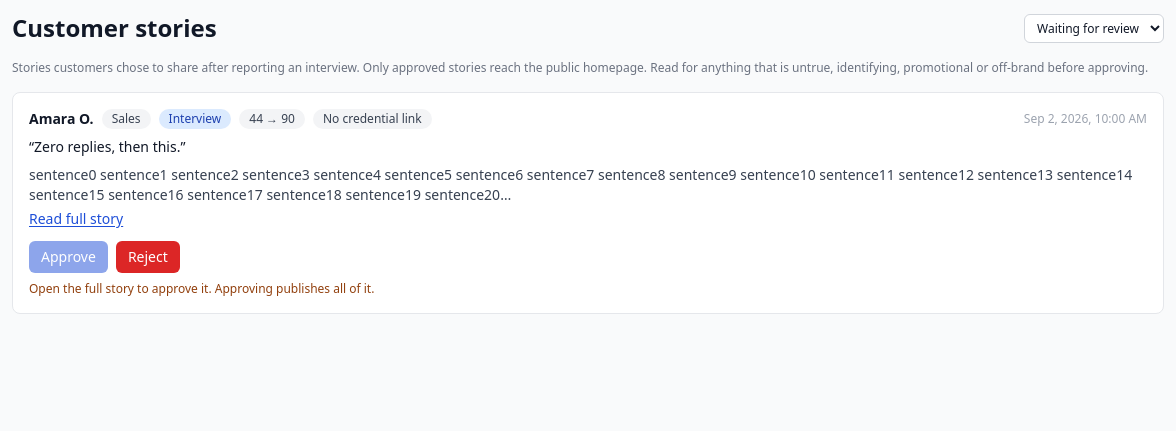
AdminStories — preview by default › a story its author edits after it was read counts as unread again (the reload shows new words)
Click the button "Read full story" at [76, 219], box [29, 209, 123, 229]
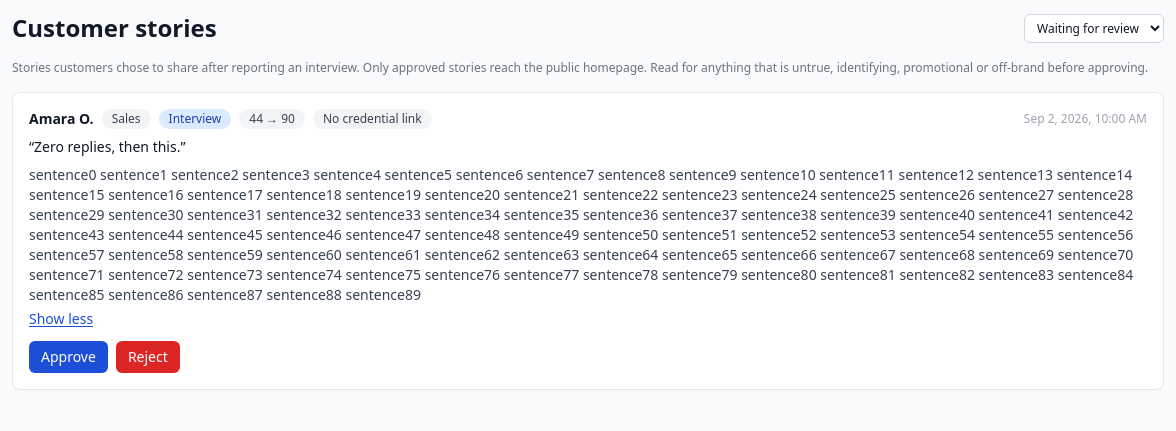
Click the button "Approve" at [68, 357], box [29, 341, 108, 373]
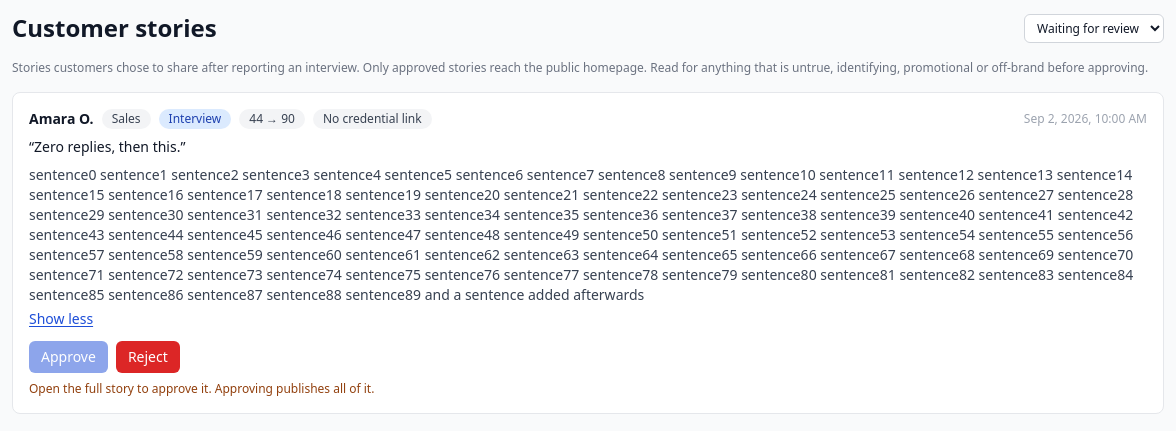
Result: the button "Approve" is disabled at [29, 341, 108, 373]
Result: the text with test id "read-to-approve" is shown at [29, 380, 374, 397]
